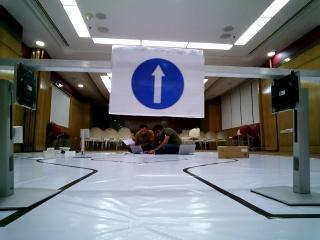straight: (112, 46, 202, 110)
